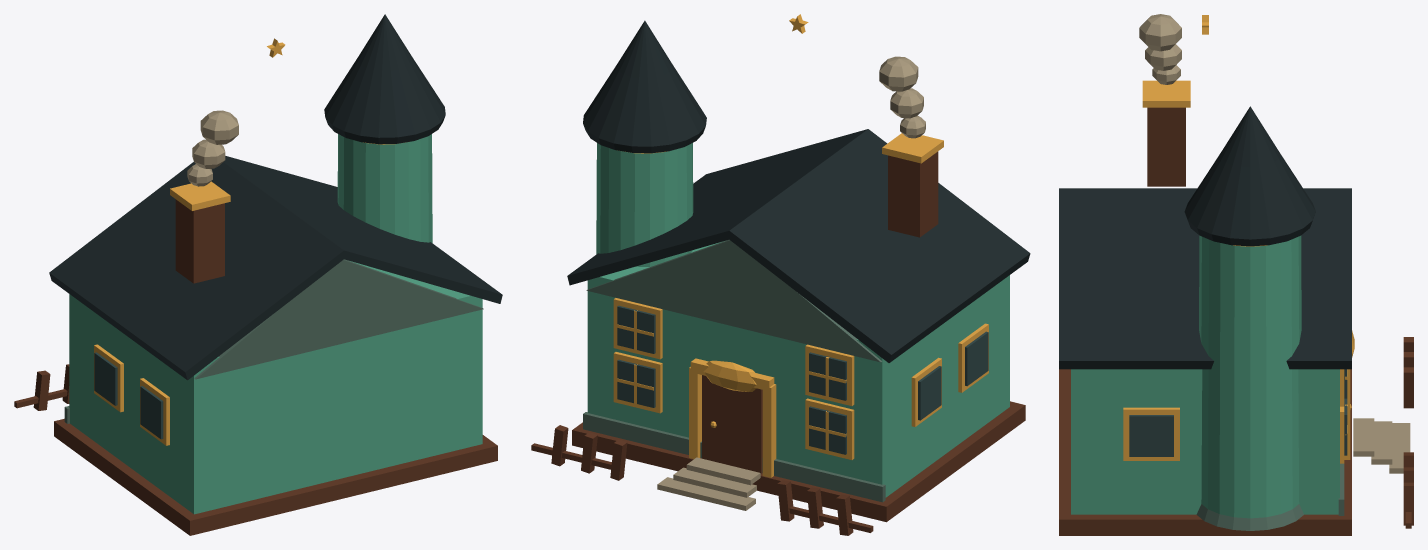
File: ParkParkHauntedHouse.obj
3 views of the same model, side by side, from view 1: azimuth 30°, elevation 25°; view 2: azimuth 150°, elevation 25°; view 3: azimuth 270°, elevation 25° (orthographic). The views are drawn at different scales.
Visible parts, largest first — view 1: ParkParkHauntedHouse; view 2: ParkParkHauntedHouse; view 3: ParkParkHauntedHouse.
Boxes of the visible parts, x1=… form: ParkParkHauntedHouse: x1=14, y1=14, x2=502, y2=535; ParkParkHauntedHouse: x1=531, y1=14, x2=1030, y2=535; ParkParkHauntedHouse: x1=1059, y1=14, x2=1413, y2=535.
Bounding box in the file's own units: 14.5 × 16.25 × 11.88.
